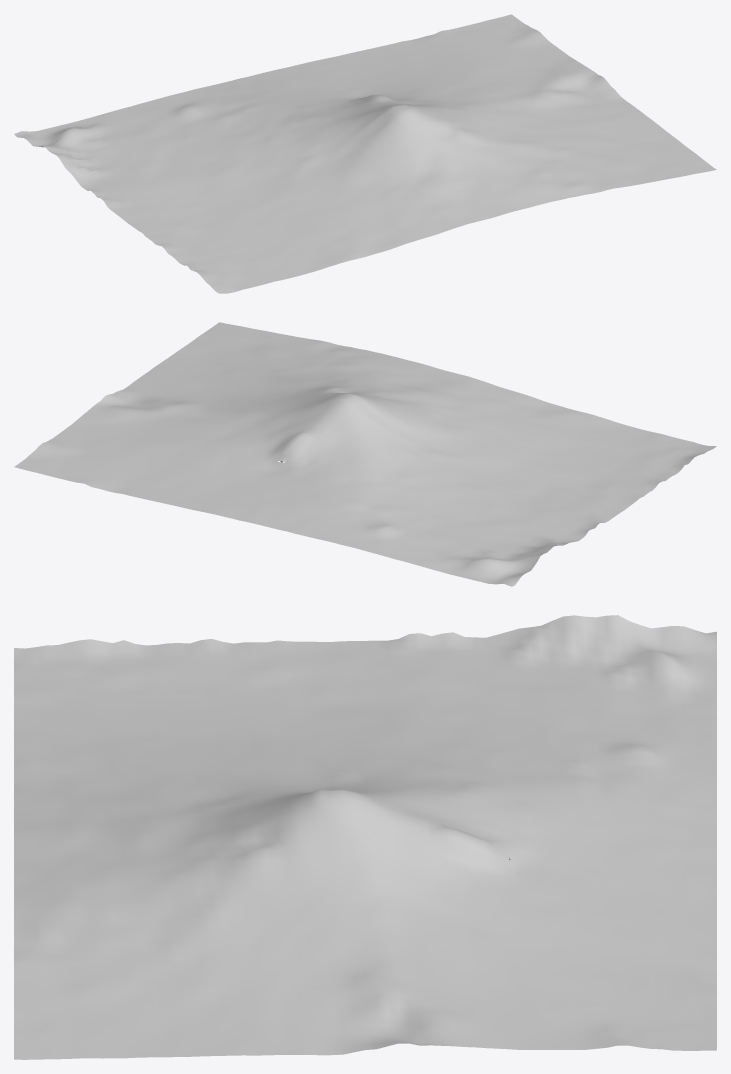
The model's file is Level1LD.fbx.
3 renders of one model, top to bottom at view 1: azimuth 30°, elevation 25°; view 2: azimuth 150°, elevation 25°; view 3: azimuth 270°, elevation 25°, orthographic. The views are drawn at different scales.
Visible parts, largest first — view 1: EXPORT_GOOGLE_SAT_WM; view 2: EXPORT_GOOGLE_SAT_WM; view 3: EXPORT_GOOGLE_SAT_WM.
Part boxes in pixels (left/top/right/bottom): EXPORT_GOOGLE_SAT_WM: left=14, top=14, right=716, bottom=293; EXPORT_GOOGLE_SAT_WM: left=14, top=322, right=716, bottom=586; EXPORT_GOOGLE_SAT_WM: left=14, top=615, right=716, bottom=1059.
Bounding box in the file's own units: 2232849 × 223506 × 1594892.
